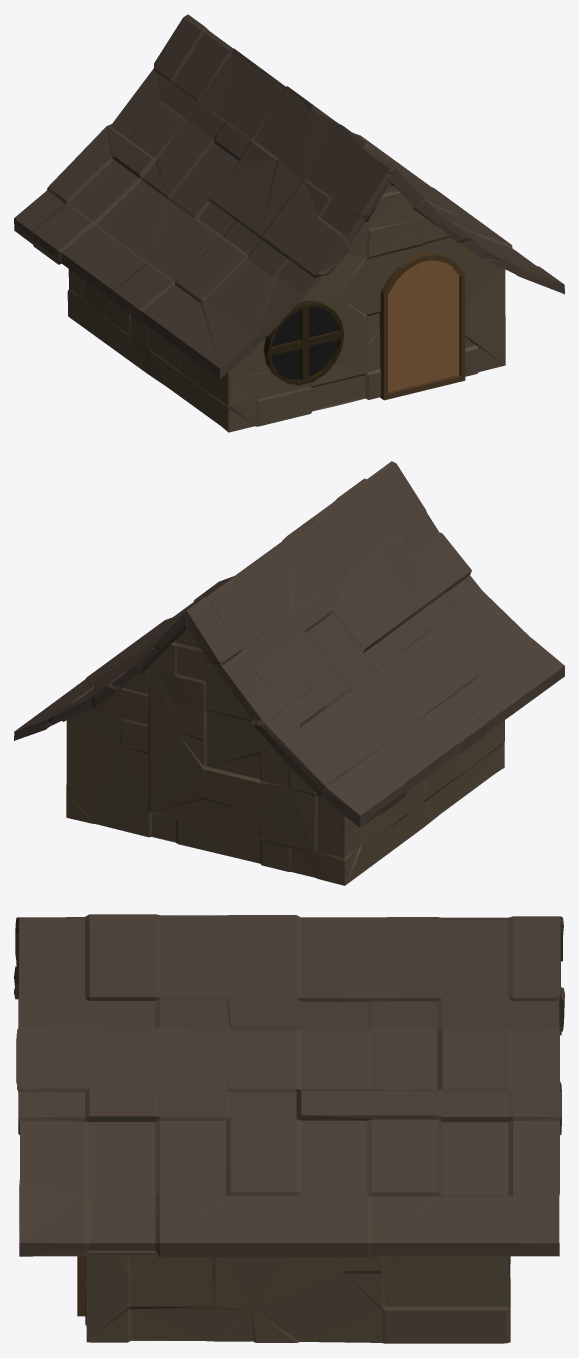
File: Cottage.fbx
3 views of the same model, one above another, from view 1: azimuth 30°, elevation 25°; view 2: azimuth 150°, elevation 25°; view 3: azimuth 270°, elevation 25° (orthographic). The views are drawn at different scales.
Parts seen in each view (by area): view 1: Roof, House, Door, DoorFrame, Window, WindowFrame; view 2: Roof, House; view 3: Roof, House.
Boxes of the visible parts, x1,y1,x2,y2 form: Roof: [14, 14, 564, 378]; House: [67, 184, 505, 432]; Door: [388, 260, 459, 391]; DoorFrame: [379, 252, 465, 400]; Window: [271, 306, 337, 379]; WindowFrame: [263, 300, 344, 385]; Roof: [14, 461, 564, 827]; House: [66, 629, 504, 885]; Roof: [14, 914, 564, 1257]; House: [84, 1254, 510, 1343].
Size of the model in its own units: 1882 by 1331 by 1950.
